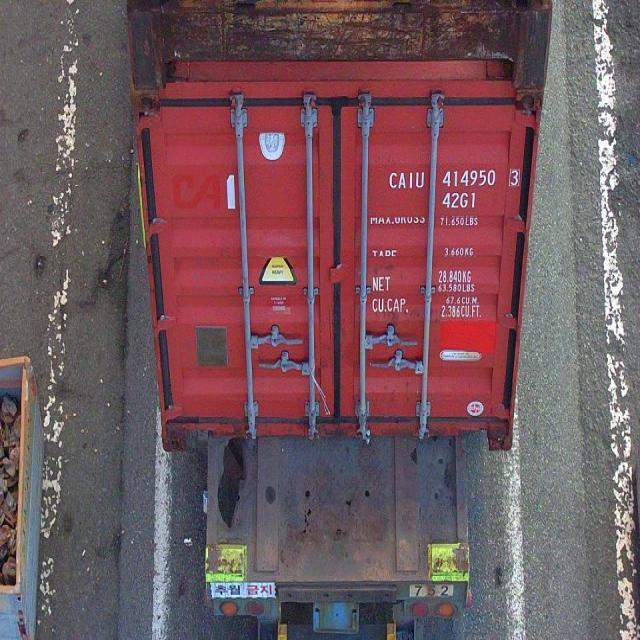ISO: (443, 190, 478, 210)
container_number: (388, 167, 518, 189)
